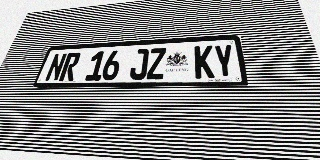1: (85, 51, 107, 81)
6: (101, 50, 122, 80)
J: (129, 49, 149, 80)
K: (194, 45, 215, 79)
N: (44, 53, 68, 81)
R: (58, 52, 82, 81)
Y: (213, 44, 236, 78)
Z: (146, 48, 166, 79)
